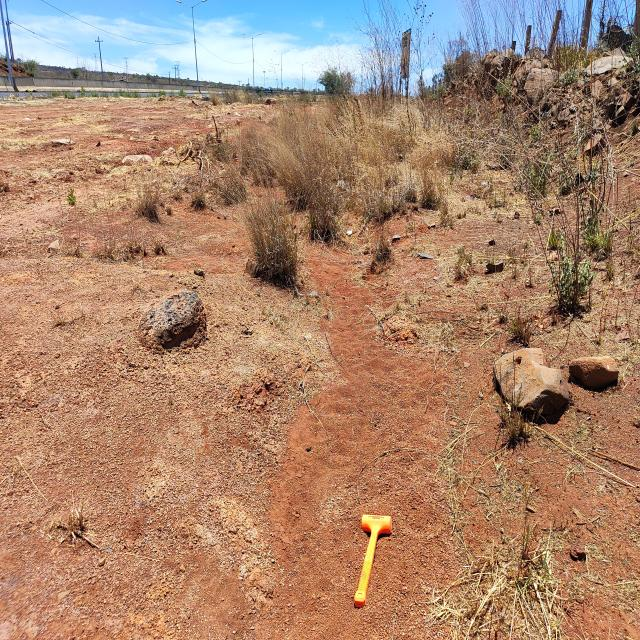Orange_hammer: (353, 513, 392, 608)
